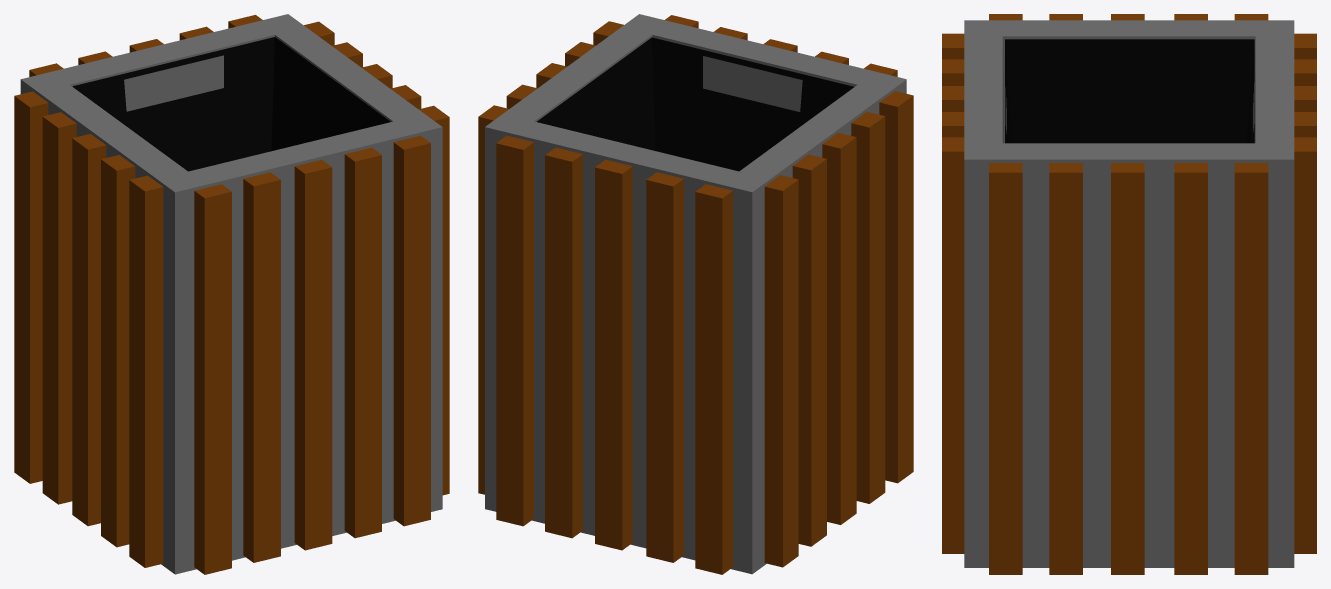
Rendered from Trash_bin1.fbx.
The picture shows the model from 3 angles, left to right: view 1: azimuth 30°, elevation 25°; view 2: azimuth 150°, elevation 25°; view 3: azimuth 270°, elevation 25°; orthographic projection. The views are drawn at different scales.
Visible parts, largest first — view 1: Куб, Куб.021; view 2: Куб, Куб.021; view 3: Куб, Куб.021.
Boxes of the visible parts, x1=… form: Куб: x1=14, y1=14, x2=449, y2=574; Куб.021: x1=72, y1=37, x2=390, y2=171; Куб: x1=478, y1=14, x2=913, y2=574; Куб.021: x1=537, y1=37, x2=853, y2=171; Куб: x1=942, y1=14, x2=1316, y2=574; Куб.021: x1=1005, y1=39, x2=1254, y2=143.
Size of the model in its own units: 63.32 by 75.91 by 63.14.
